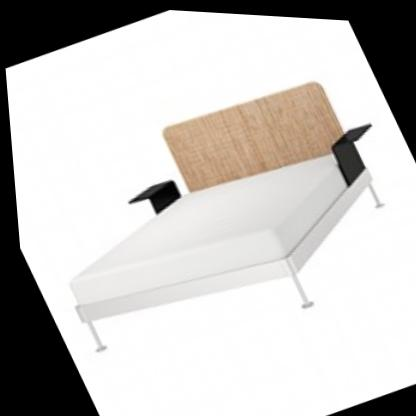Bed: (1, 15, 416, 406)
